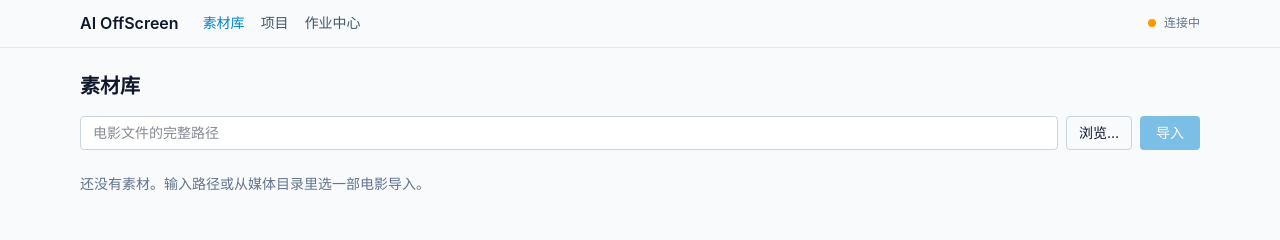
Test: library: importing › shows why an import was refused and keeps what was typed
Type "/etc/passwd" into the field named "电影文件路径" at (569, 133), box [80,116,1058,150]
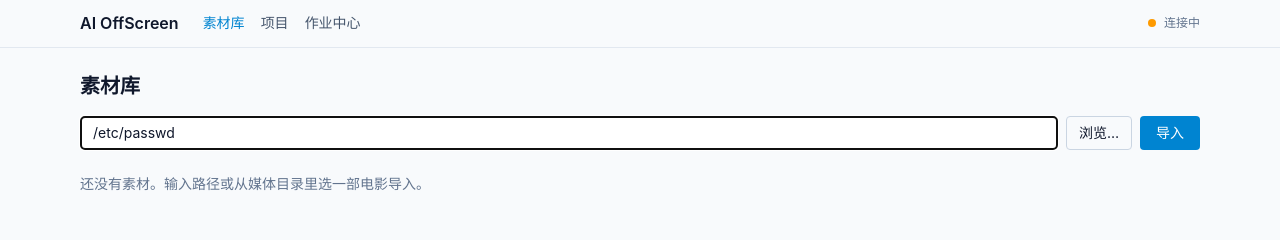
Click the button "导入" at (1170, 133), box [1140,116,1200,150]
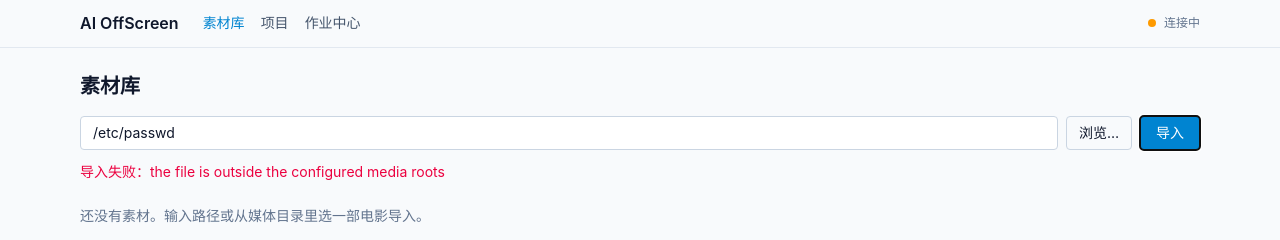
Check: the message "导入失败：the file is outside the configured media roots" is shown, box [80,163,445,180]
